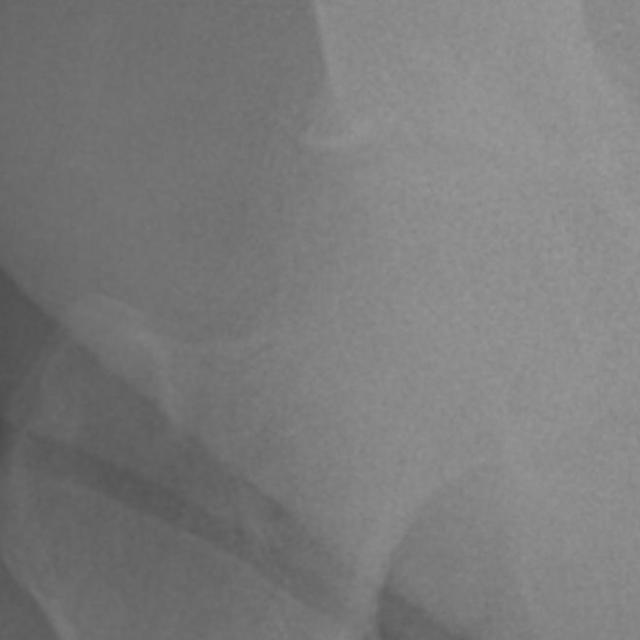Fitted_femural_head: (347, 159, 432, 347)
